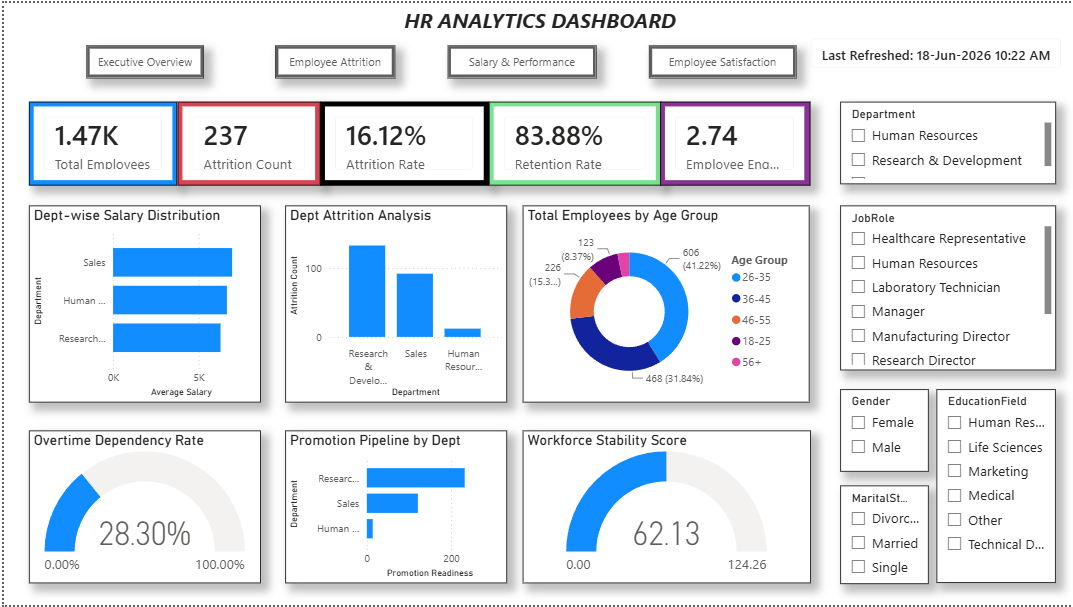

This screenshot's page, from the dashboard's own definition file:
{"tool":"powerbi","page":{"name":"Executive Overview","canvas":[1280,720],"ordinal":0},"visuals":[{"type":"textbox","box":[0,0,1280.7,50.9],"z":0},{"type":"cardVisual","fields":{"Data":["Measures Table.Total Employees"]},"box":[29.8,117.5,177.2,100],"z":1000},{"type":"cardVisual","fields":{"Data":["Measures Table.Attrition Count"]},"box":[207,117.5,170.2,100],"z":2000},{"type":"cardVisual","fields":{"Data":["Measures Table.Attrition Rate"]},"box":[377.2,117.5,201.8,100],"z":3000},{"type":"cardVisual","fields":{"Data":["Measures Table.Retention Rate"]},"box":[578.9,117.5,205.3,100],"z":4000},{"type":"cardVisual","fields":{"Data":["Measures Table.Employee Engagement Score"]},"box":[784.2,117.5,178.9,100],"z":5000},{"type":"clusteredBarChart","title":"Dept-wise Salary Distribution","fields":{"Category":["Employee_Details.Department"],"Y":["Measures Table.Average Salary"]},"box":[29.8,242.1,277.2,235.1],"z":6000},{"type":"donutChart","title":"Total Employees by Age Group","fields":{"Category":["Employee_Details.Age Group"],"Y":["Measures Table.Total Employees"]},"box":[619.3,242.1,342.1,235.1],"z":7000},{"type":"gauge","fields":{"Y":["Measures Table.Overtime Dependency Rate"]},"box":[29.8,510.5,277.2,182.5],"z":8000},{"type":"barChart","title":"Promotion Pipeline by Dept","fields":{"Category":["Employee_Details.Department"],"Y":["Measures Table.Promotion Readiness"]},"box":[335.1,510.5,264.9,182.5],"z":9000},{"type":"gauge","fields":{"Y":["Measures Table.Workforce Stability Score"]},"box":[619.3,510.5,343.9,182.5],"z":10000},{"type":"slicer","fields":{"Values":["Employee_Details.Department"]},"box":[998.2,117.5,257.9,98.2],"z":11000},{"type":"slicer","fields":{"Values":["Employee_Details.Gender"]},"box":[998.2,461.4,105.3,98.2],"z":12000},{"type":"slicer","fields":{"Values":["Employee_Details.JobRole"]},"box":[998.2,242.1,257.9,196.5],"z":13000},{"type":"slicer","fields":{"Values":["Employee_Details.MaritalStatus"]},"box":[998.2,575.4,105.3,117.5],"z":14000},{"type":"slicer","fields":{"Values":["Employee_Details.EducationField"]},"box":[1114,461.4,142.1,231.6],"z":15000},{"type":"cardVisual","fields":{"Data":["Measures Table.Last Refresh"]},"box":[946.4,26.1,333.3,69.6],"z":16000},{"type":"clusteredColumnChart","title":"Dept Attrition Analysis","fields":{"Category":["Employee_Details.Department"],"Y":["Measures Table.Attrition Count"]},"box":[335.1,242.1,264.9,235.1],"z":17000},{"type":"actionButton","box":[98.5,50.7,140.3,38.8],"z":17001},{"type":"actionButton","box":[323.9,50.7,143.3,38.8],"z":17002},{"type":"actionButton","box":[529.9,50.7,177.6,38.8],"z":17003},{"type":"actionButton","box":[770.1,50.7,176.1,38.8],"z":17004}]}

Visuals, with their boxes in screenshot pixels (x1, y1, x2, y2), scaled from the page's 1280x720 canvas onto the 1073x607 screenshot:
textbox: bbox=(0, 0, 1072, 43)
cardVisual - Measures Table.Total Employees: bbox=(25, 99, 174, 183)
cardVisual - Measures Table.Attrition Count: bbox=(174, 99, 316, 183)
cardVisual - Measures Table.Attrition Rate: bbox=(316, 99, 485, 183)
cardVisual - Measures Table.Retention Rate: bbox=(485, 99, 657, 183)
cardVisual - Measures Table.Employee Engagement Score: bbox=(657, 99, 807, 183)
"Dept-wise Salary Distribution" clusteredBarChart: bbox=(25, 204, 257, 402)
"Total Employees by Age Group" donutChart: bbox=(519, 204, 806, 402)
gauge - Measures Table.Overtime Dependency Rate: bbox=(25, 430, 257, 584)
"Promotion Pipeline by Dept" barChart: bbox=(281, 430, 503, 584)
gauge - Measures Table.Workforce Stability Score: bbox=(519, 430, 807, 584)
slicer - Employee_Details.Department: bbox=(837, 99, 1053, 182)
slicer - Employee_Details.Gender: bbox=(837, 389, 925, 472)
slicer - Employee_Details.JobRole: bbox=(837, 204, 1053, 370)
slicer - Employee_Details.MaritalStatus: bbox=(837, 485, 925, 584)
slicer - Employee_Details.EducationField: bbox=(934, 389, 1053, 584)
cardVisual - Measures Table.Last Refresh: bbox=(793, 22, 1072, 81)
"Dept Attrition Analysis" clusteredColumnChart: bbox=(281, 204, 503, 402)
actionButton: bbox=(83, 43, 200, 75)
actionButton: bbox=(272, 43, 392, 75)
actionButton: bbox=(444, 43, 593, 75)
actionButton: bbox=(646, 43, 793, 75)
